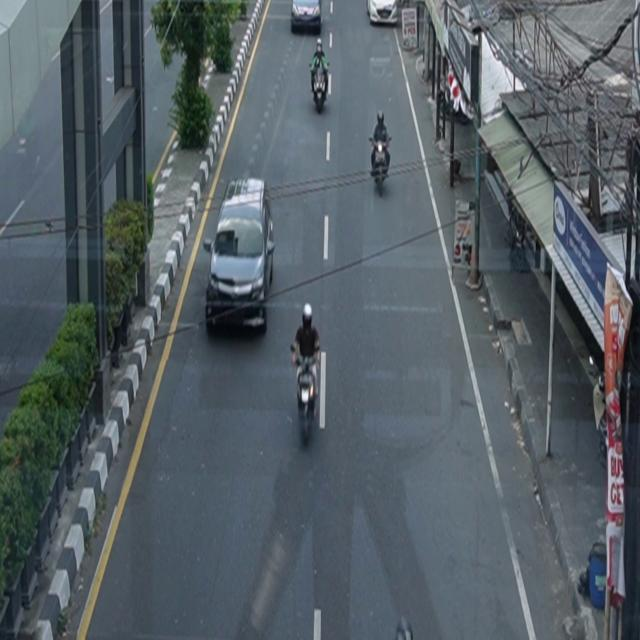car: (204, 177, 276, 334), (292, 1, 323, 34), (367, 1, 398, 26)
